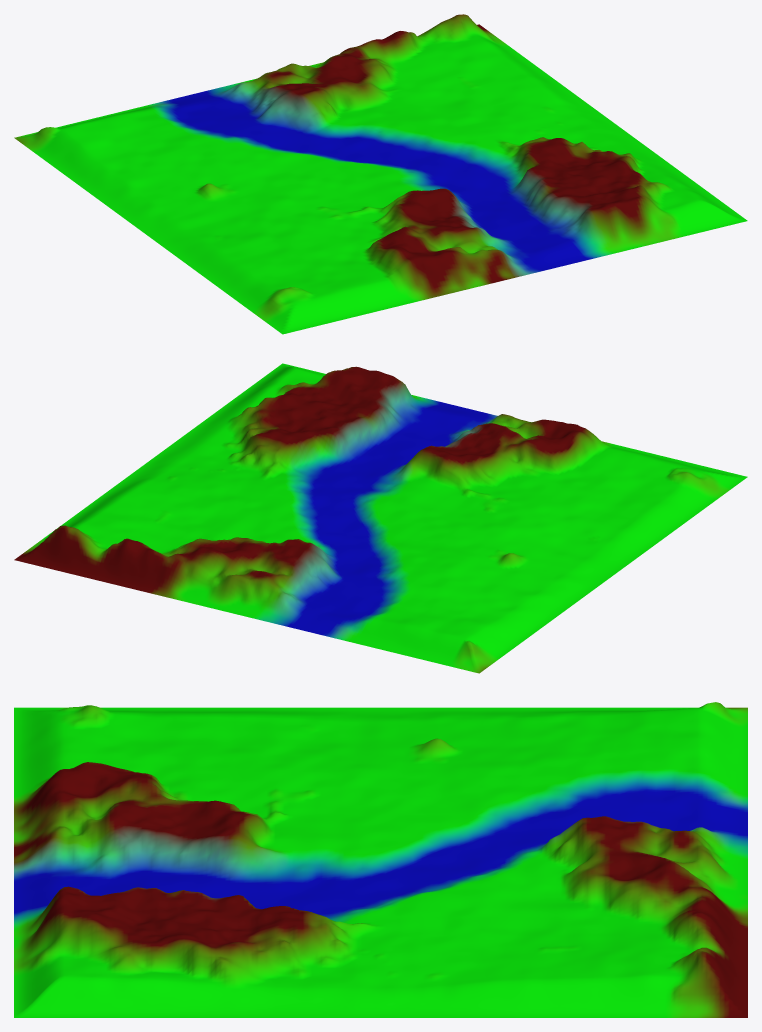
Rendered from PaintedGround.gltf.
3 views of the same model, one above another, from view 1: azimuth 30°, elevation 25°; view 2: azimuth 150°, elevation 25°; view 3: azimuth 270°, elevation 25° (orthographic). The views are drawn at different scales.
Visible parts, largest first — view 1: PaintedGround; view 2: PaintedGround; view 3: PaintedGround.
Boxes of the visible parts, bbox=[...] form: PaintedGround: bbox=[14, 14, 747, 334]; PaintedGround: bbox=[14, 363, 747, 673]; PaintedGround: bbox=[14, 702, 747, 1017].
Bounding box in the file's own units: 6 × 0.3998 × 6.
